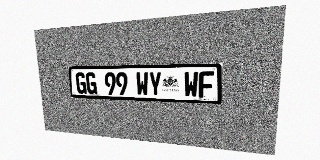9: (104, 72, 117, 95), (116, 72, 128, 95)
F: (199, 71, 214, 98)
G: (75, 72, 87, 94), (86, 72, 97, 94)
W: (184, 71, 198, 97), (136, 72, 149, 96)
Y: (149, 72, 162, 96)
